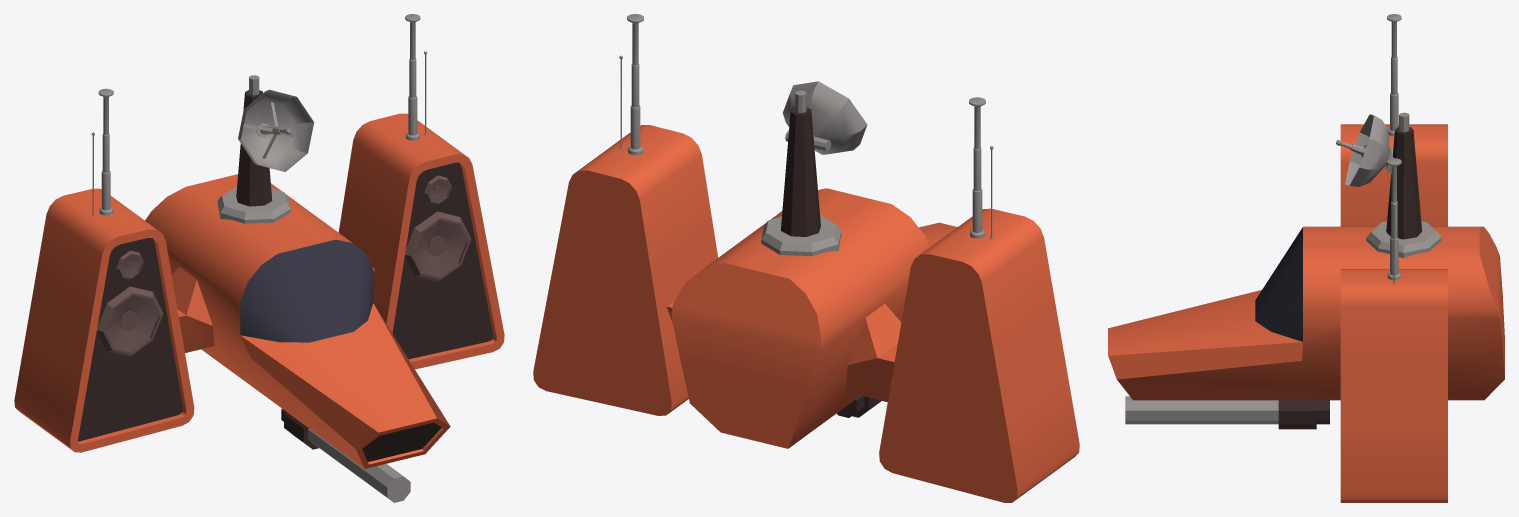
File: radiodj.fbx
3 views of the same model, side by side, from view 1: azimuth 30°, elevation 25°; view 2: azimuth 150°, elevation 25°; view 3: azimuth 270°, elevation 25° (orthographic). The views are drawn at different scales.
Parts seen in each view (by area): view 1: Cube.004; view 2: Cube.004; view 3: Cube.004.
Boxes of the visible parts, <box> form: Cube.004: <box>14,14,504,502</box>; Cube.004: <box>533,14,1079,502</box>; Cube.004: <box>1108,14,1504,502</box>.
Size of the model in its own units: 87.25 by 67.08 by 71.56.
